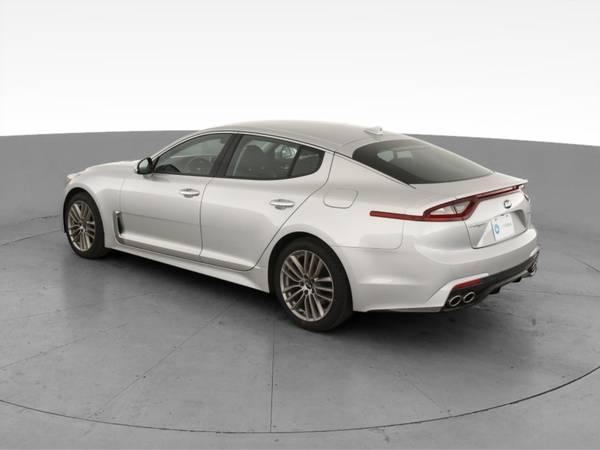Front_Fender: (61, 164, 131, 250)
Front_Left_Door: (118, 172, 214, 270)
Front_Left_Window: (136, 133, 238, 178)
Left_Taillight: (422, 196, 476, 221)
Rear_Bumper: (333, 220, 537, 315)
Rear_Fender: (279, 181, 452, 249)
Rear_Left_Door: (193, 175, 327, 292)
Rear_Left_Window: (213, 134, 326, 183)
Rear_Windshield: (350, 137, 493, 184)
Roof: (142, 120, 410, 185)
Tailgate: (413, 168, 530, 243)
Wheel: (271, 240, 348, 334), (61, 192, 102, 255)
